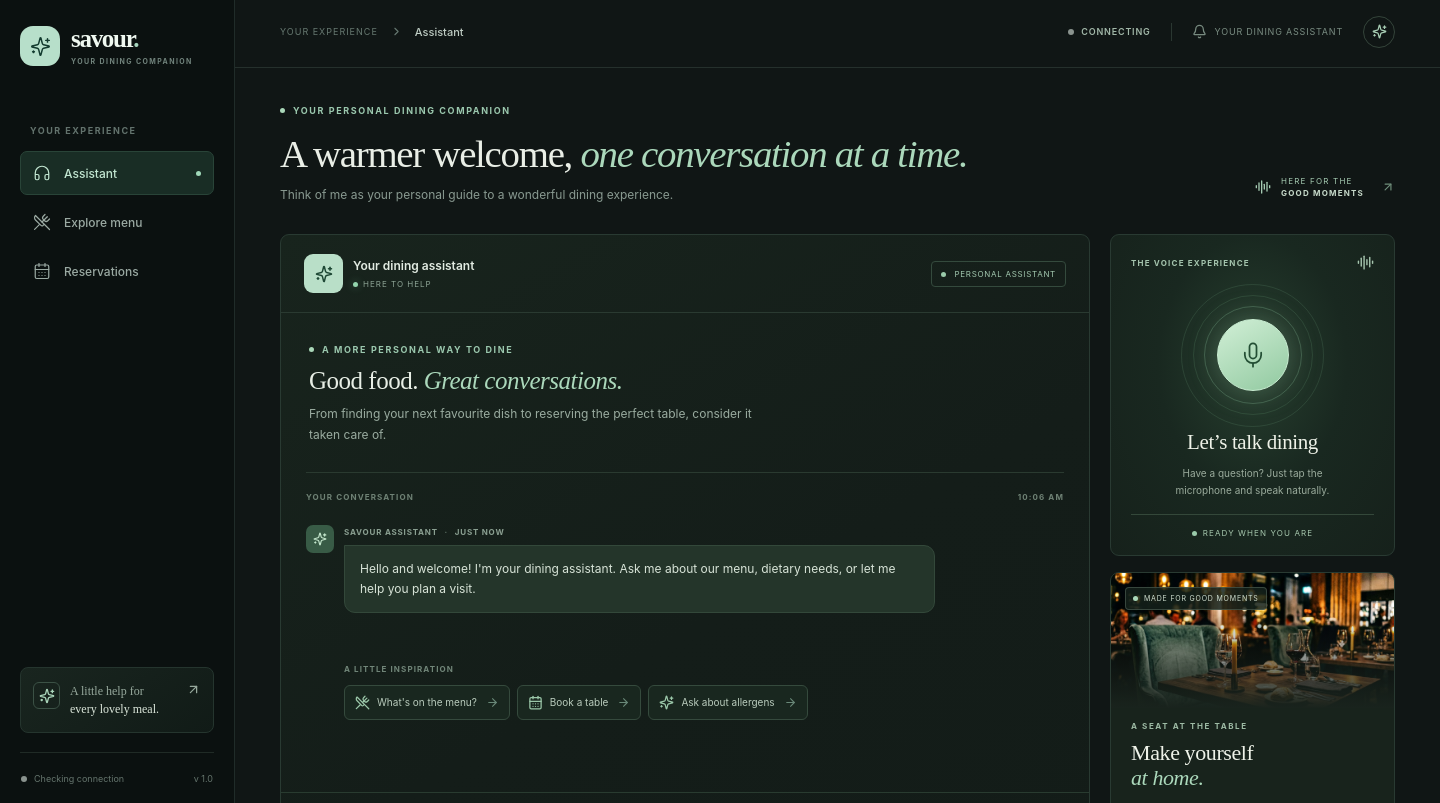
Test: restaurant experience › offers only backend slots and rejects malformed mobile numbers
Click the button "Reservations". click: x=117, y=271
box: [20,249,214,293]
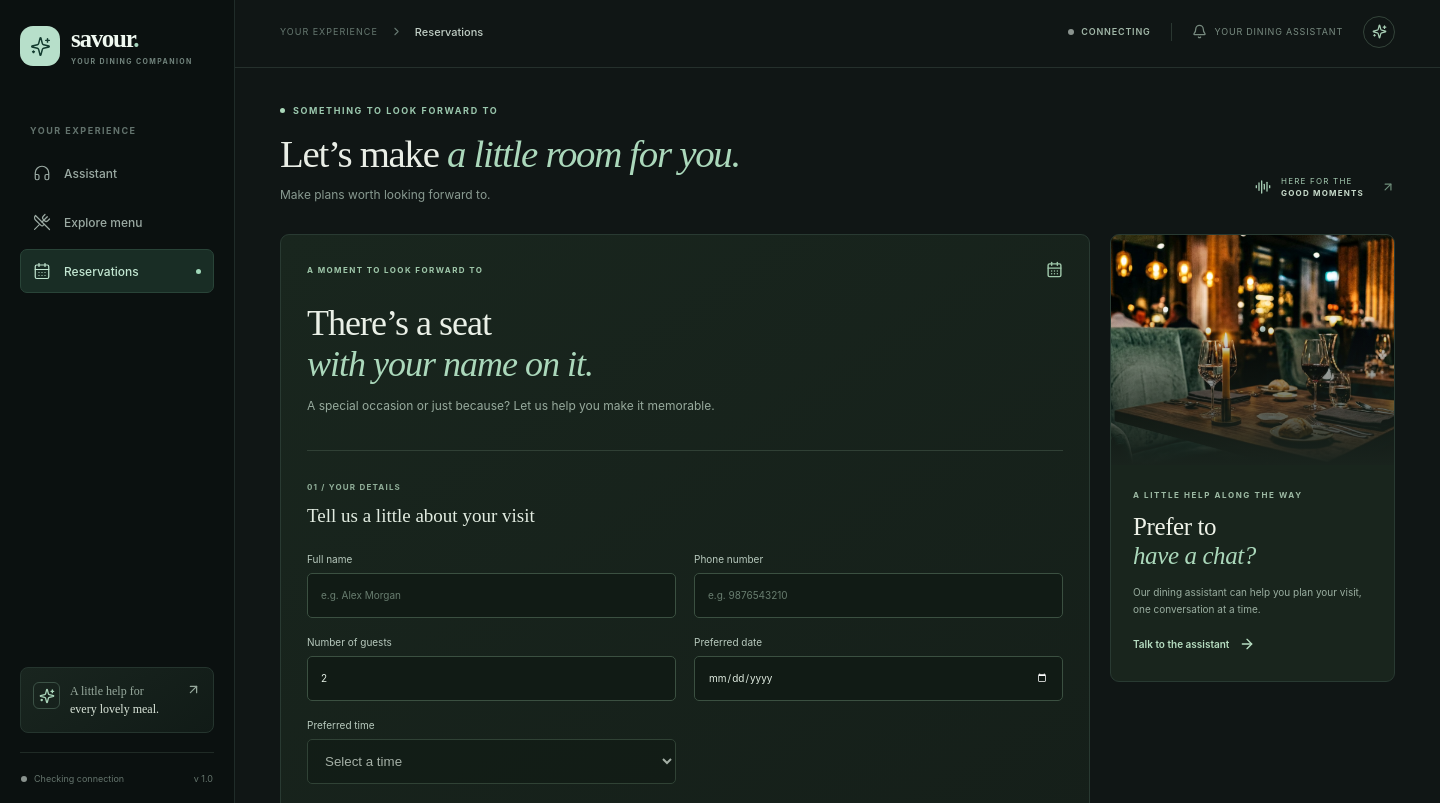
Type "Alex" into the field labelled "Full name". click: x=492, y=595
box: [307,573,676,618]
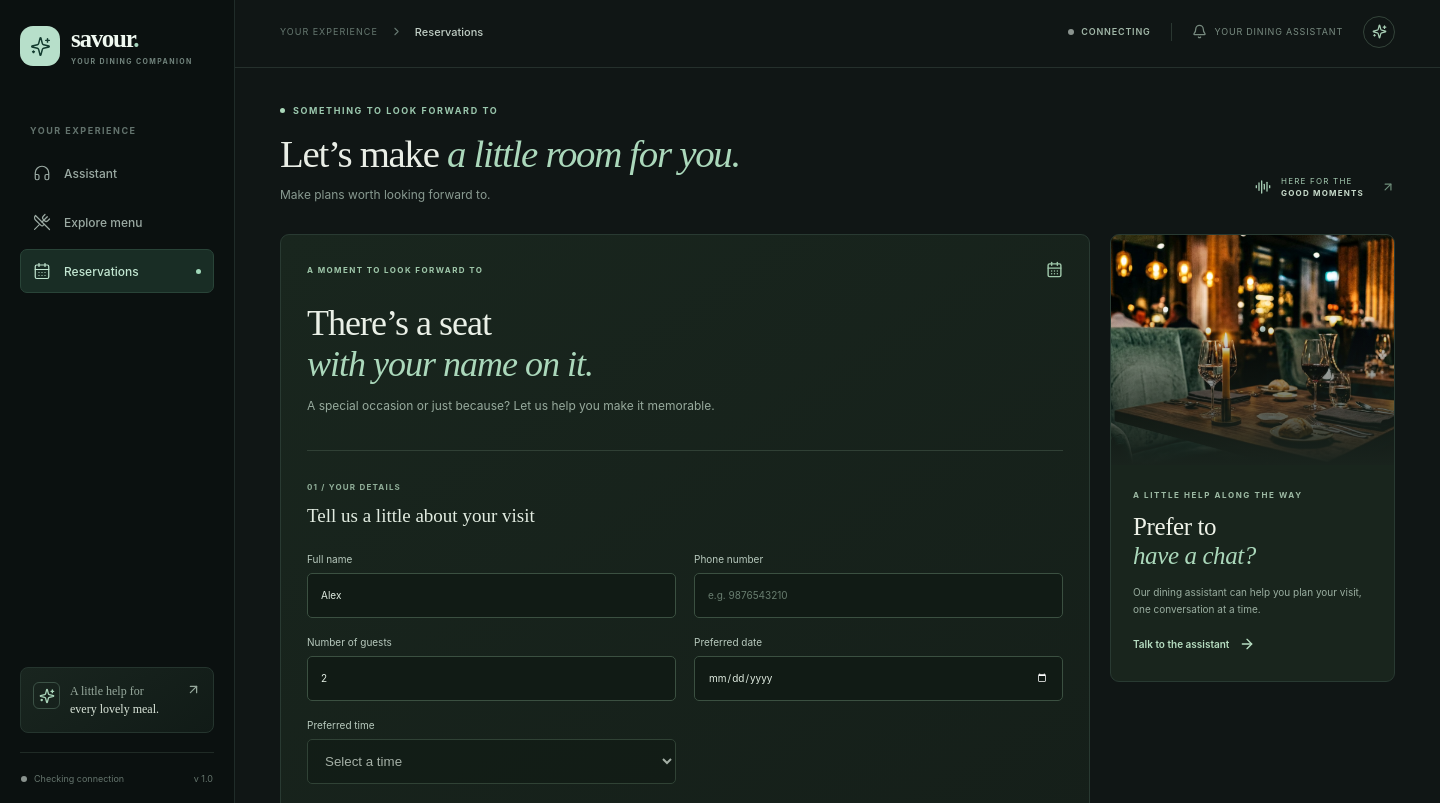
Type "98765-43210" into the field labelled "Phone number". click: x=878, y=595
box: [694,573,1063,618]
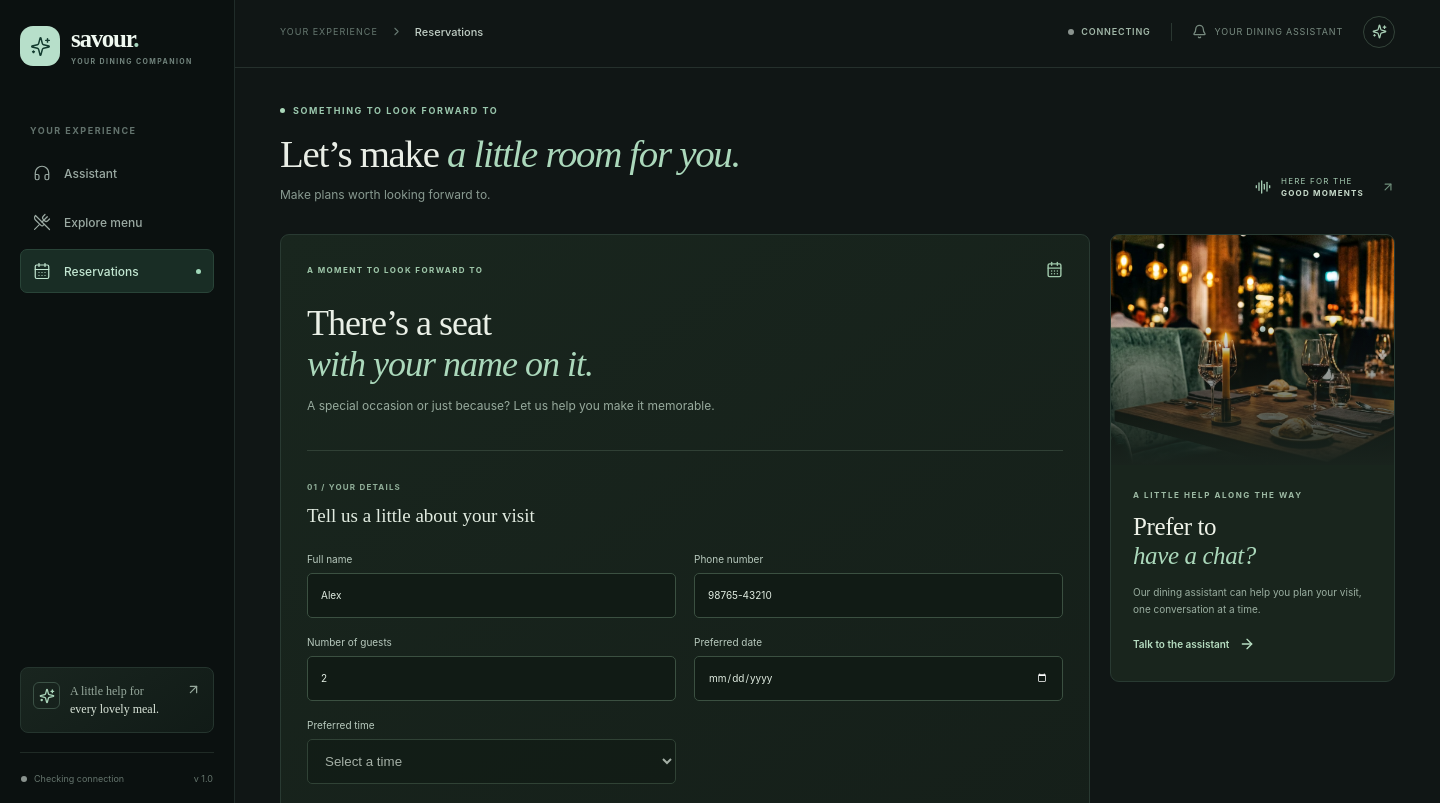
Type "2030-05-12" into the date field labelled "Preferred date". click: x=878, y=678
box: [694,656,1063,701]
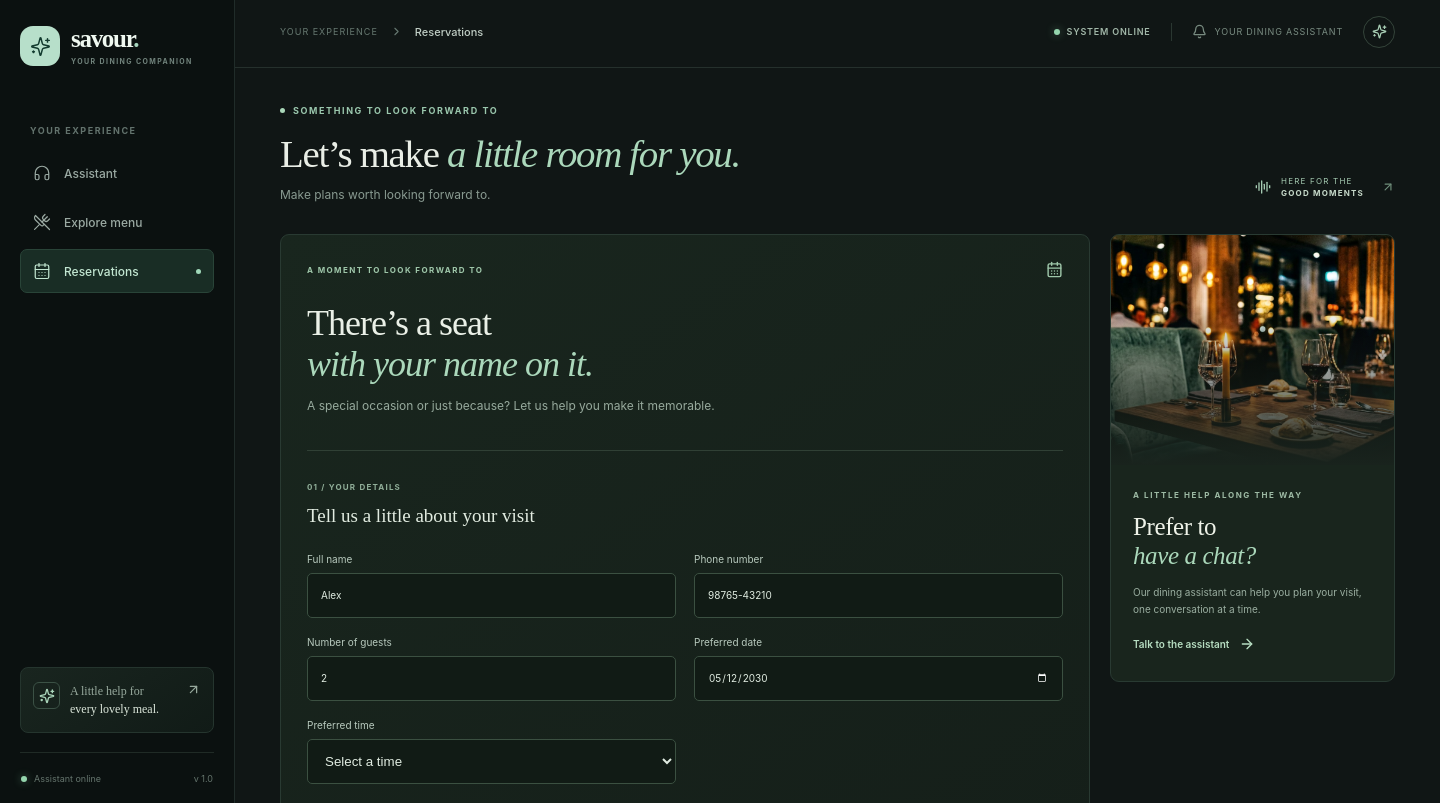
Select "18:00" in the dropdown labelled "Preferred time". click: x=492, y=761
box: [307,739,676,784]
(page scrolled)
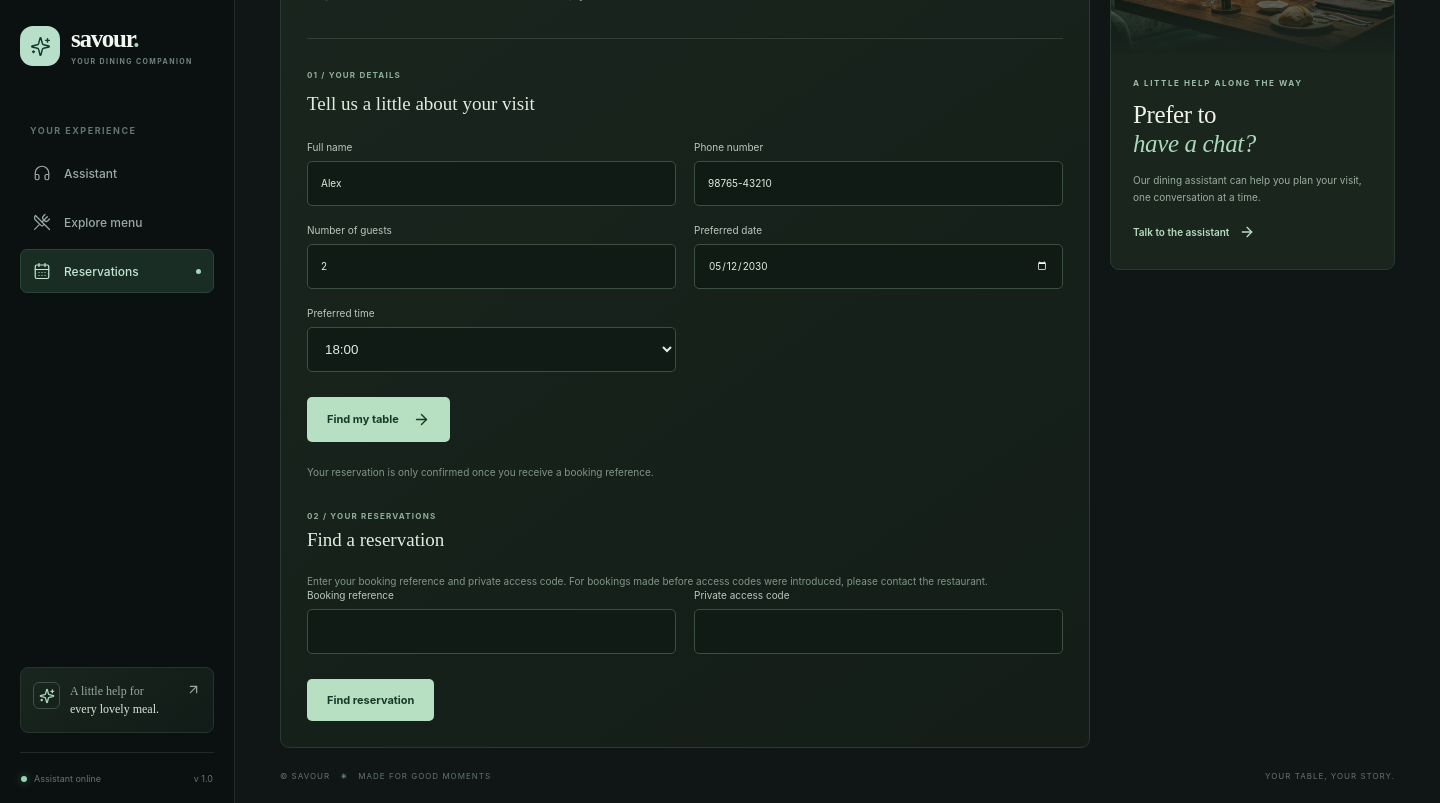
Click the button "Find my table". click: x=378, y=419
box: [307,397,450,442]
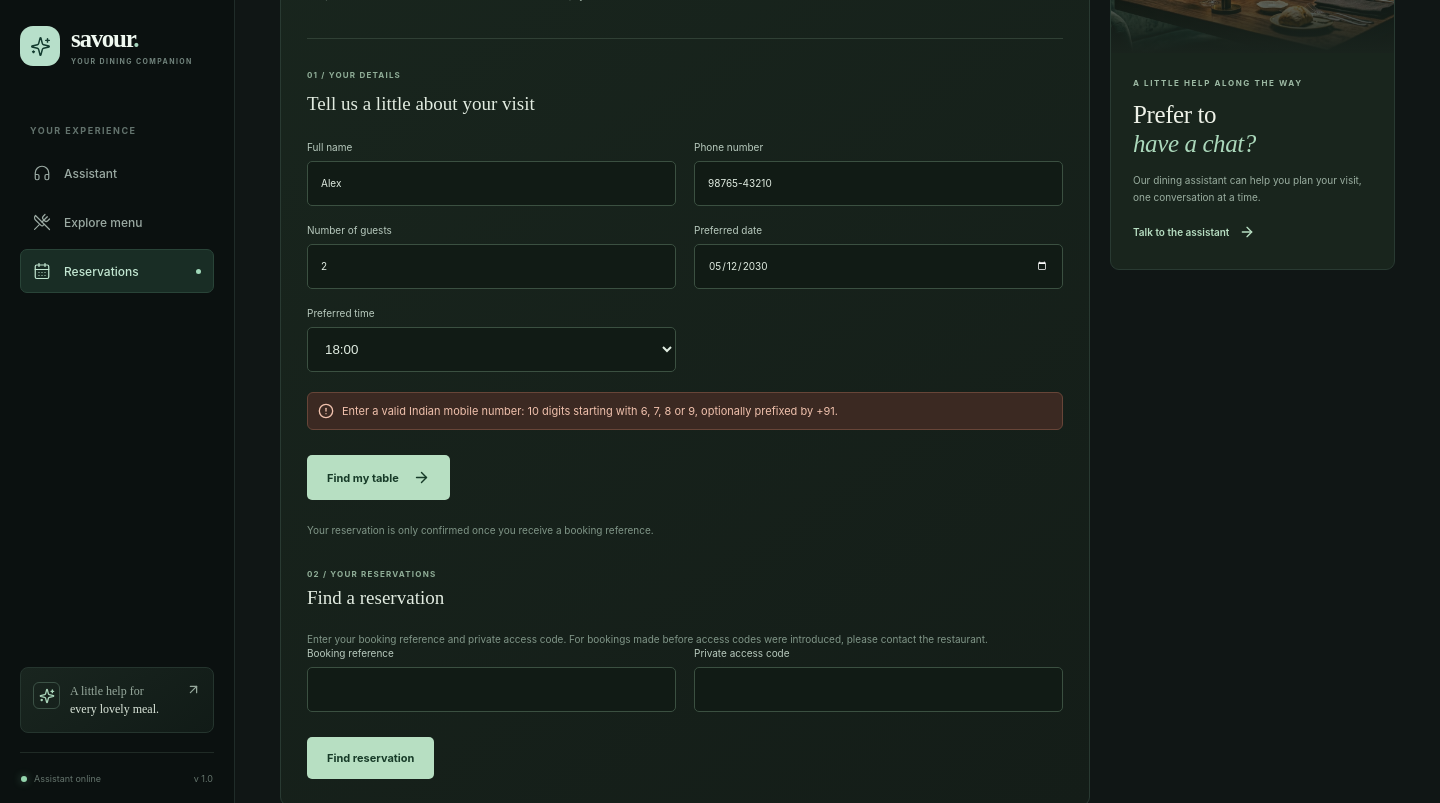
Check: the message shows "valid Indian mobile", box [342,404,838,418]
